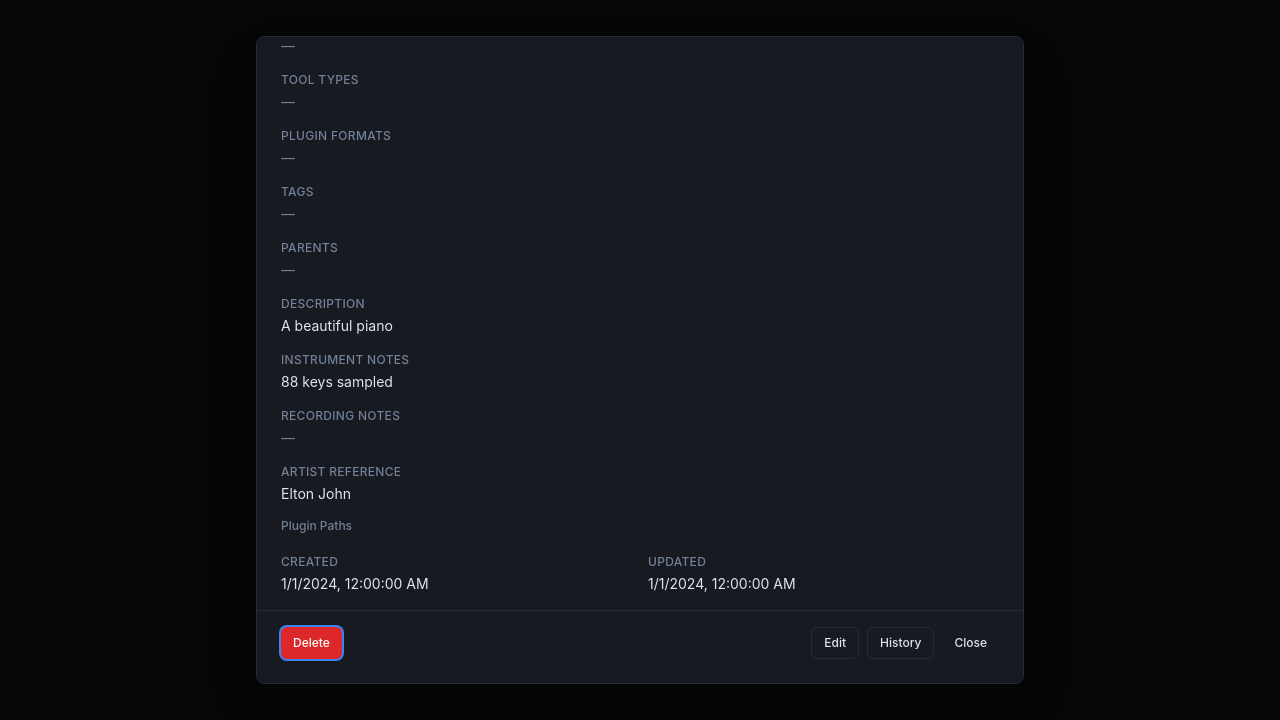
InstrumentModal — edit mode › pre-fills artist_reference input in edit mode
(page scrolled)
Click the button "Edit" at (835, 643), box [811, 627, 859, 659]
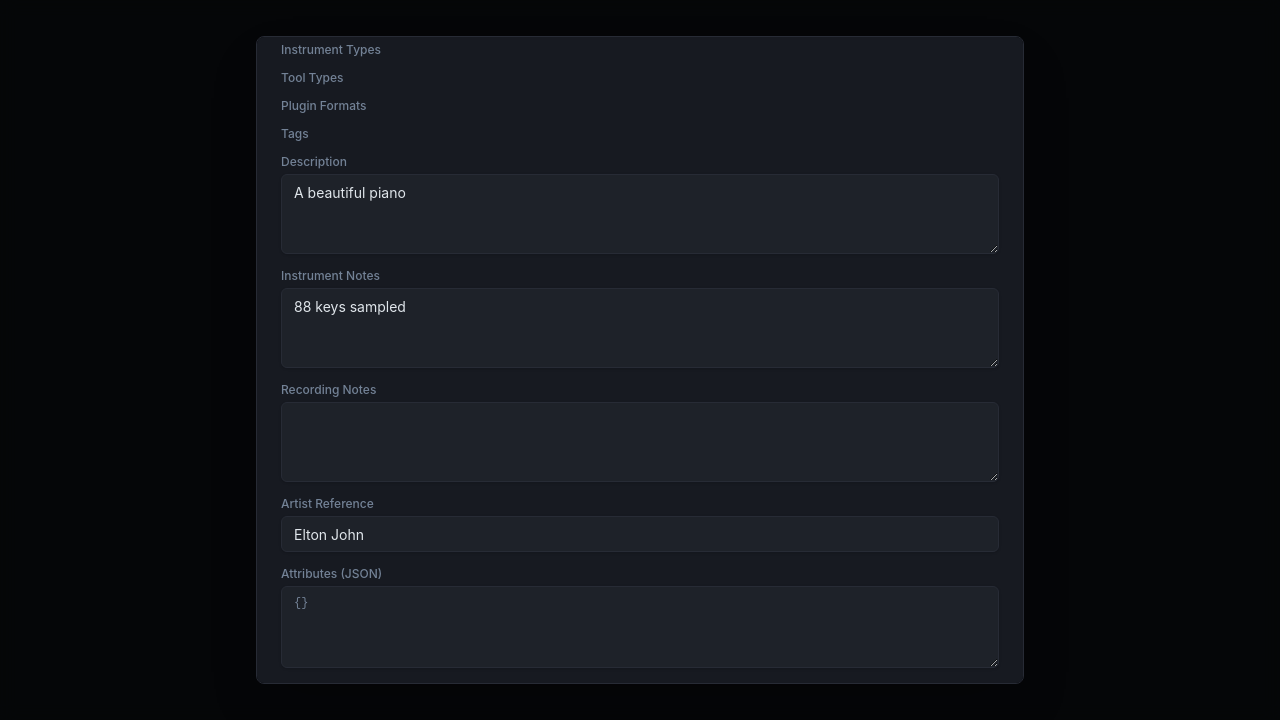
Result: the field labelled "Artist Reference" holds "Elton John" at [281, 516, 999, 552]
